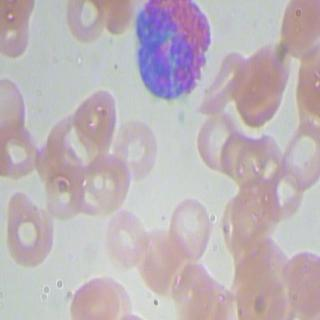RBC: (231, 38, 291, 126), (133, 218, 194, 300), (71, 78, 125, 160), (0, 186, 53, 268), (192, 50, 250, 120), (101, 204, 153, 272), (164, 192, 215, 260), (83, 146, 134, 214), (276, 240, 319, 320), (193, 110, 245, 176), (276, 120, 319, 190), (276, 0, 320, 68), (267, 152, 310, 220), (112, 118, 158, 180), (64, 272, 123, 320), (0, 64, 35, 144), (0, 122, 41, 180), (44, 162, 85, 220), (59, 0, 110, 44), (96, 0, 136, 40), (220, 130, 252, 178)
WBC: (127, 0, 215, 106)
